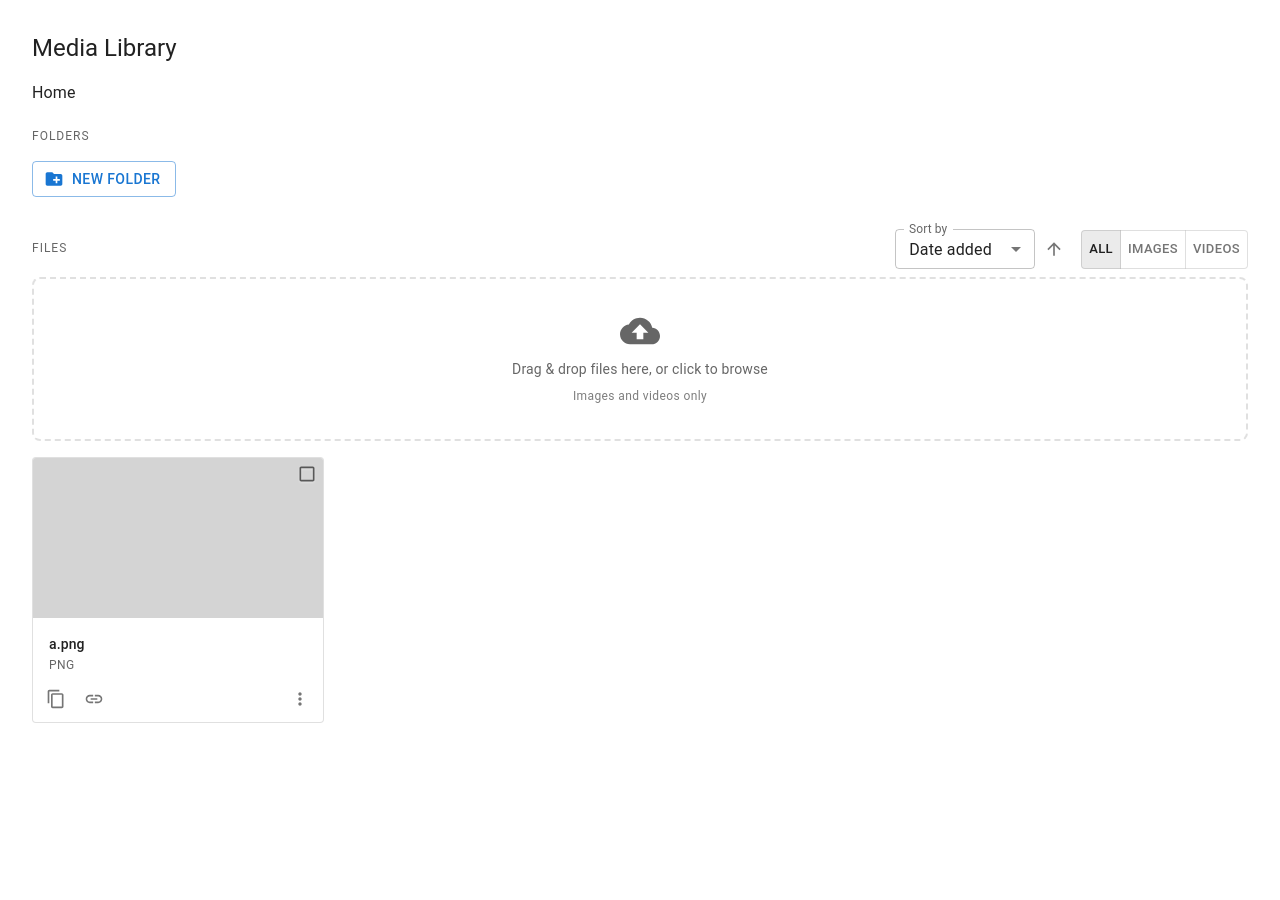
Test case: MediaPage › resets the selection when the filter changes
Click the checkbox named "Select a.png" at {"x": 307, "y": 474}, box [297,464,317,484]
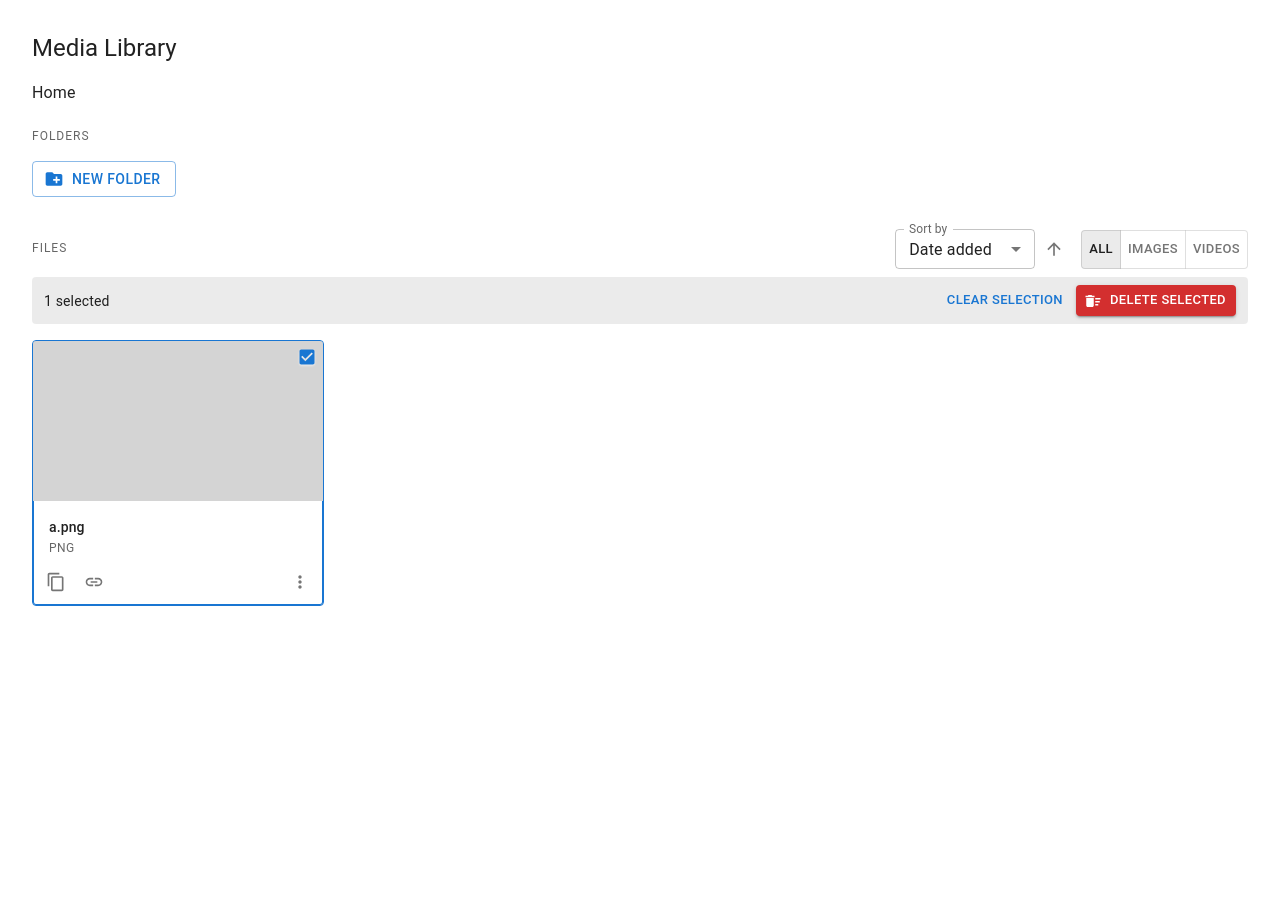
Expected: the button "Delete selected" is shown, [1076,285,1236,316]
Click the button "Images" at {"x": 1153, "y": 249}, box [1120,230,1186,269]
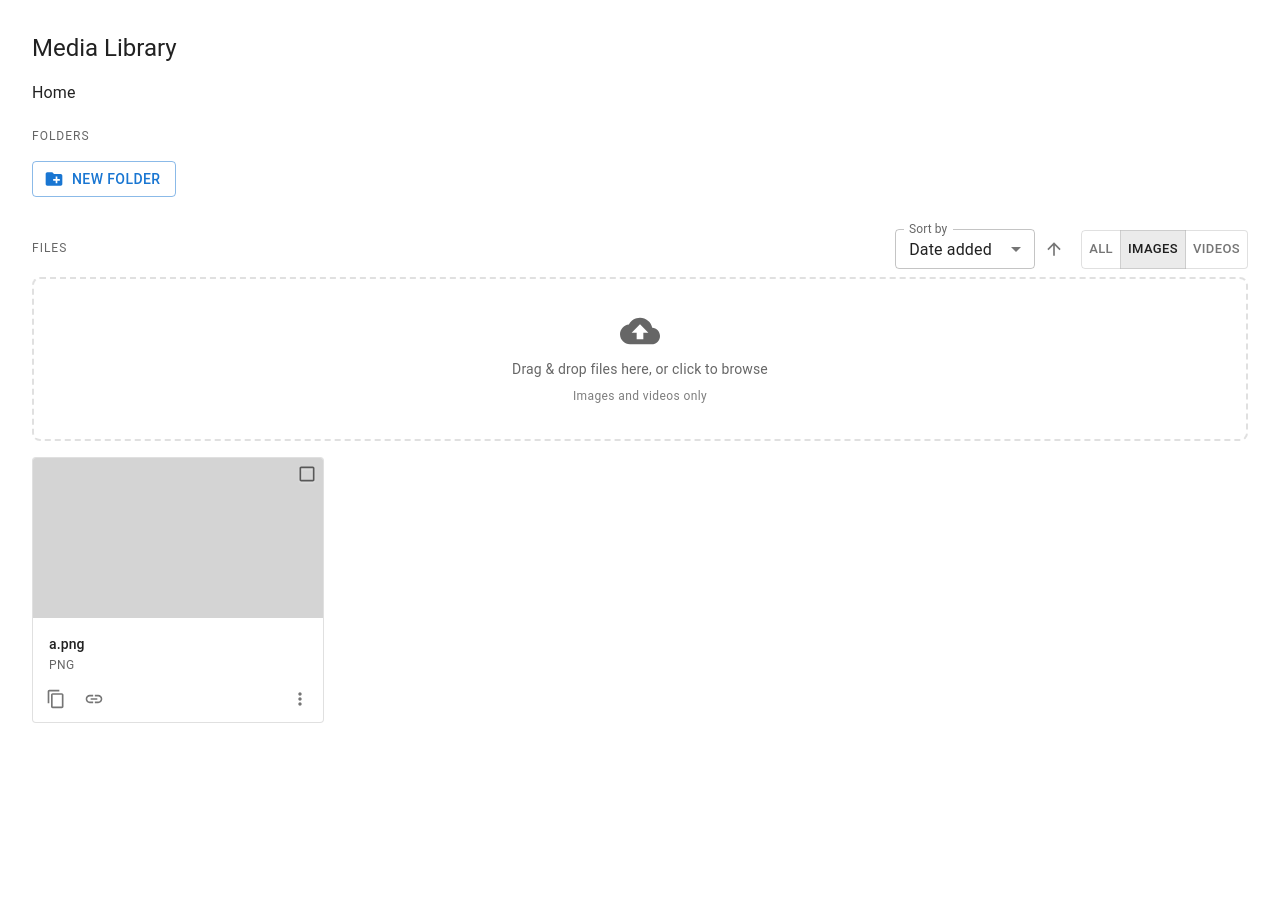
Expected: the button "Delete selected" is gone
